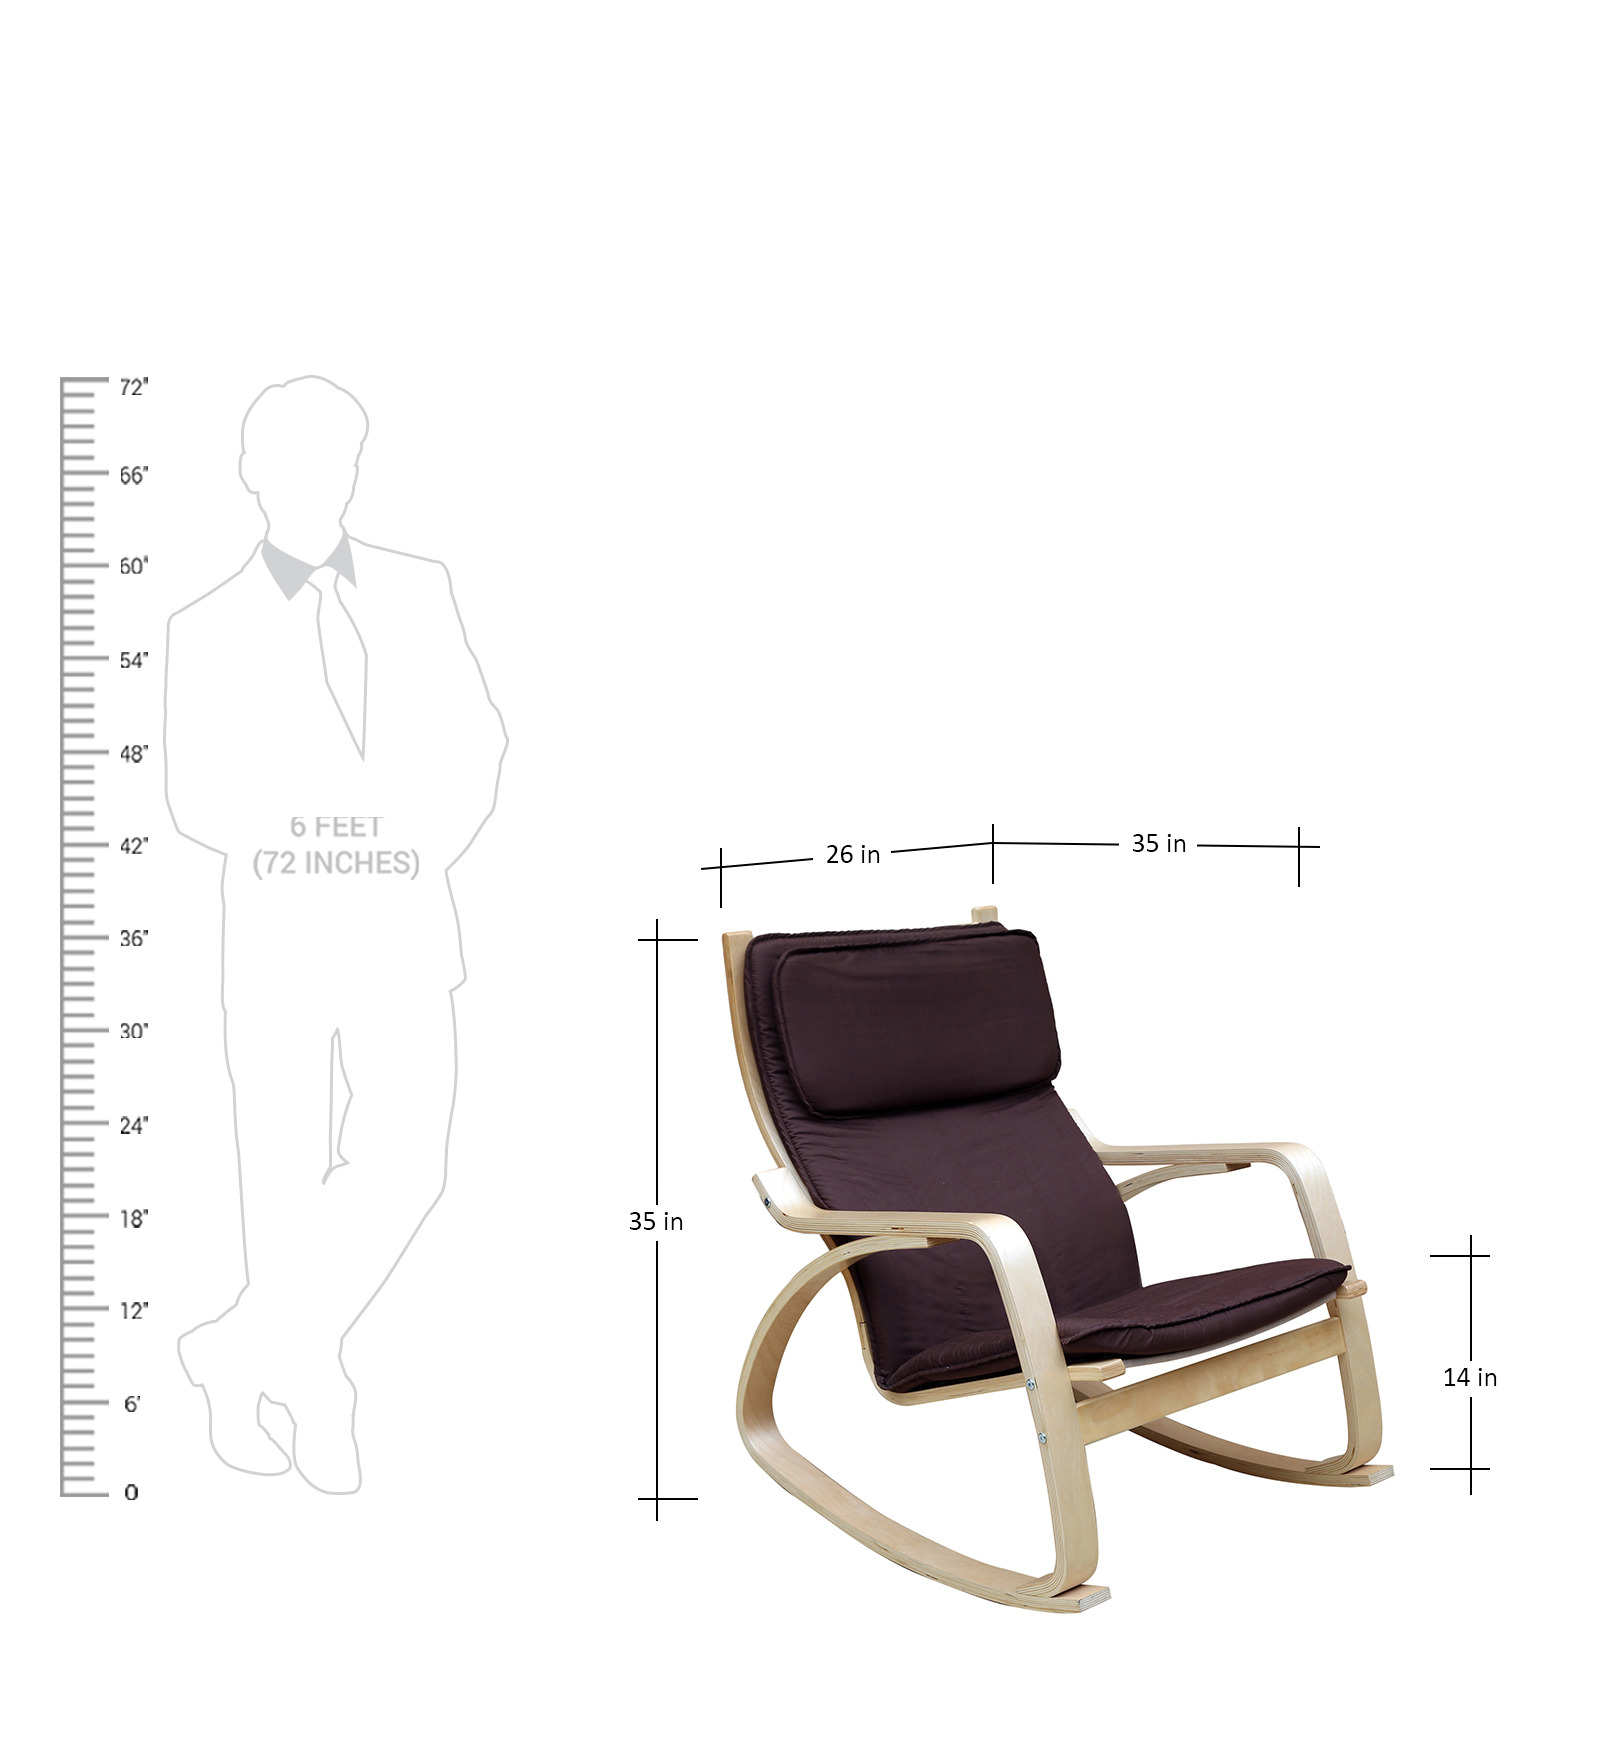Vita Rocking Chair with Brown Cushion by HomeTown: (697, 911, 1430, 1625)
